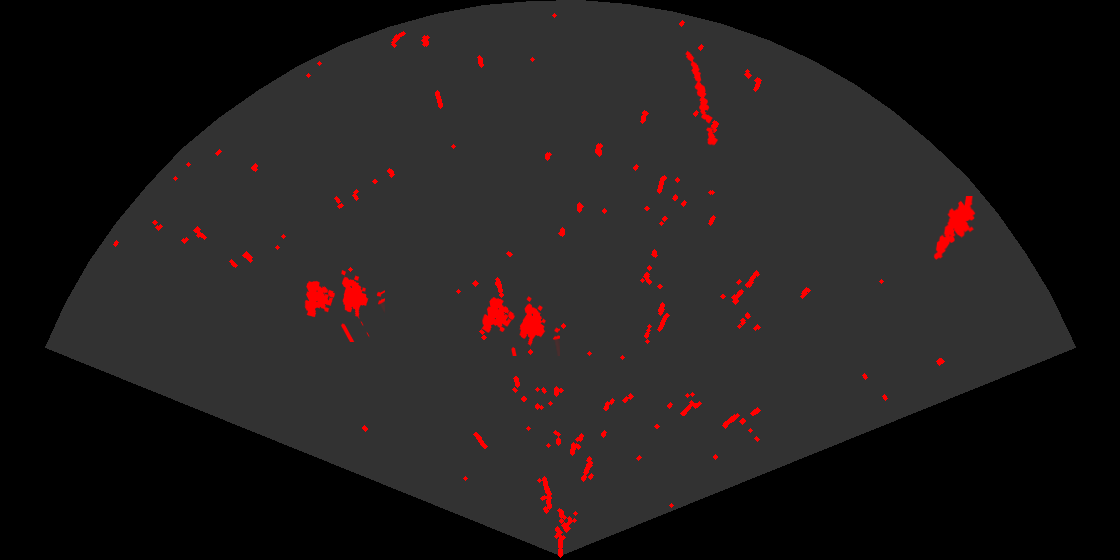cage: (303, 268, 385, 342), (480, 295, 560, 356)
chain: (684, 49, 720, 148)
frogman: (932, 196, 977, 261)
